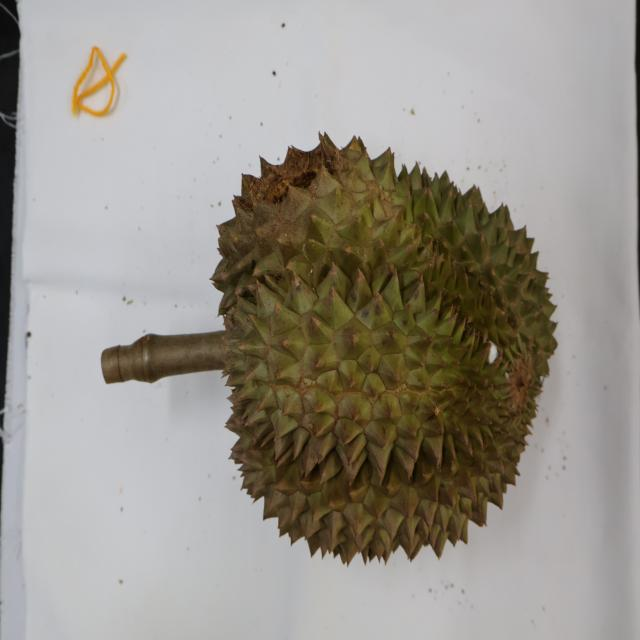defective: (210, 130, 559, 564)
